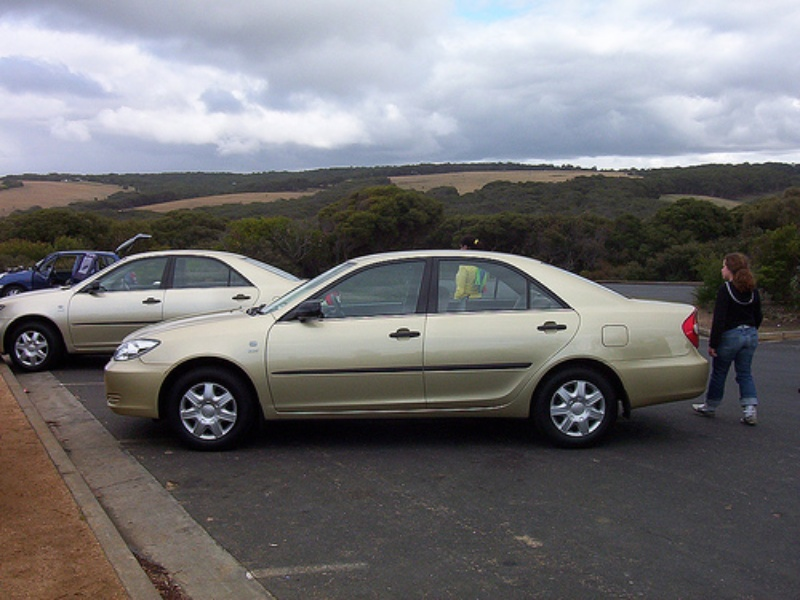car: (104, 249, 709, 449), (1, 249, 342, 374), (1, 234, 153, 298)
person: (692, 253, 762, 425), (452, 236, 489, 297)
